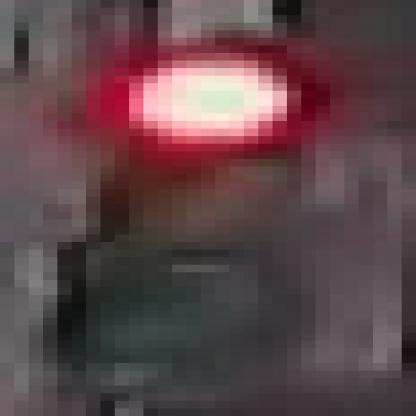Red Light: (71, 30, 326, 372)
